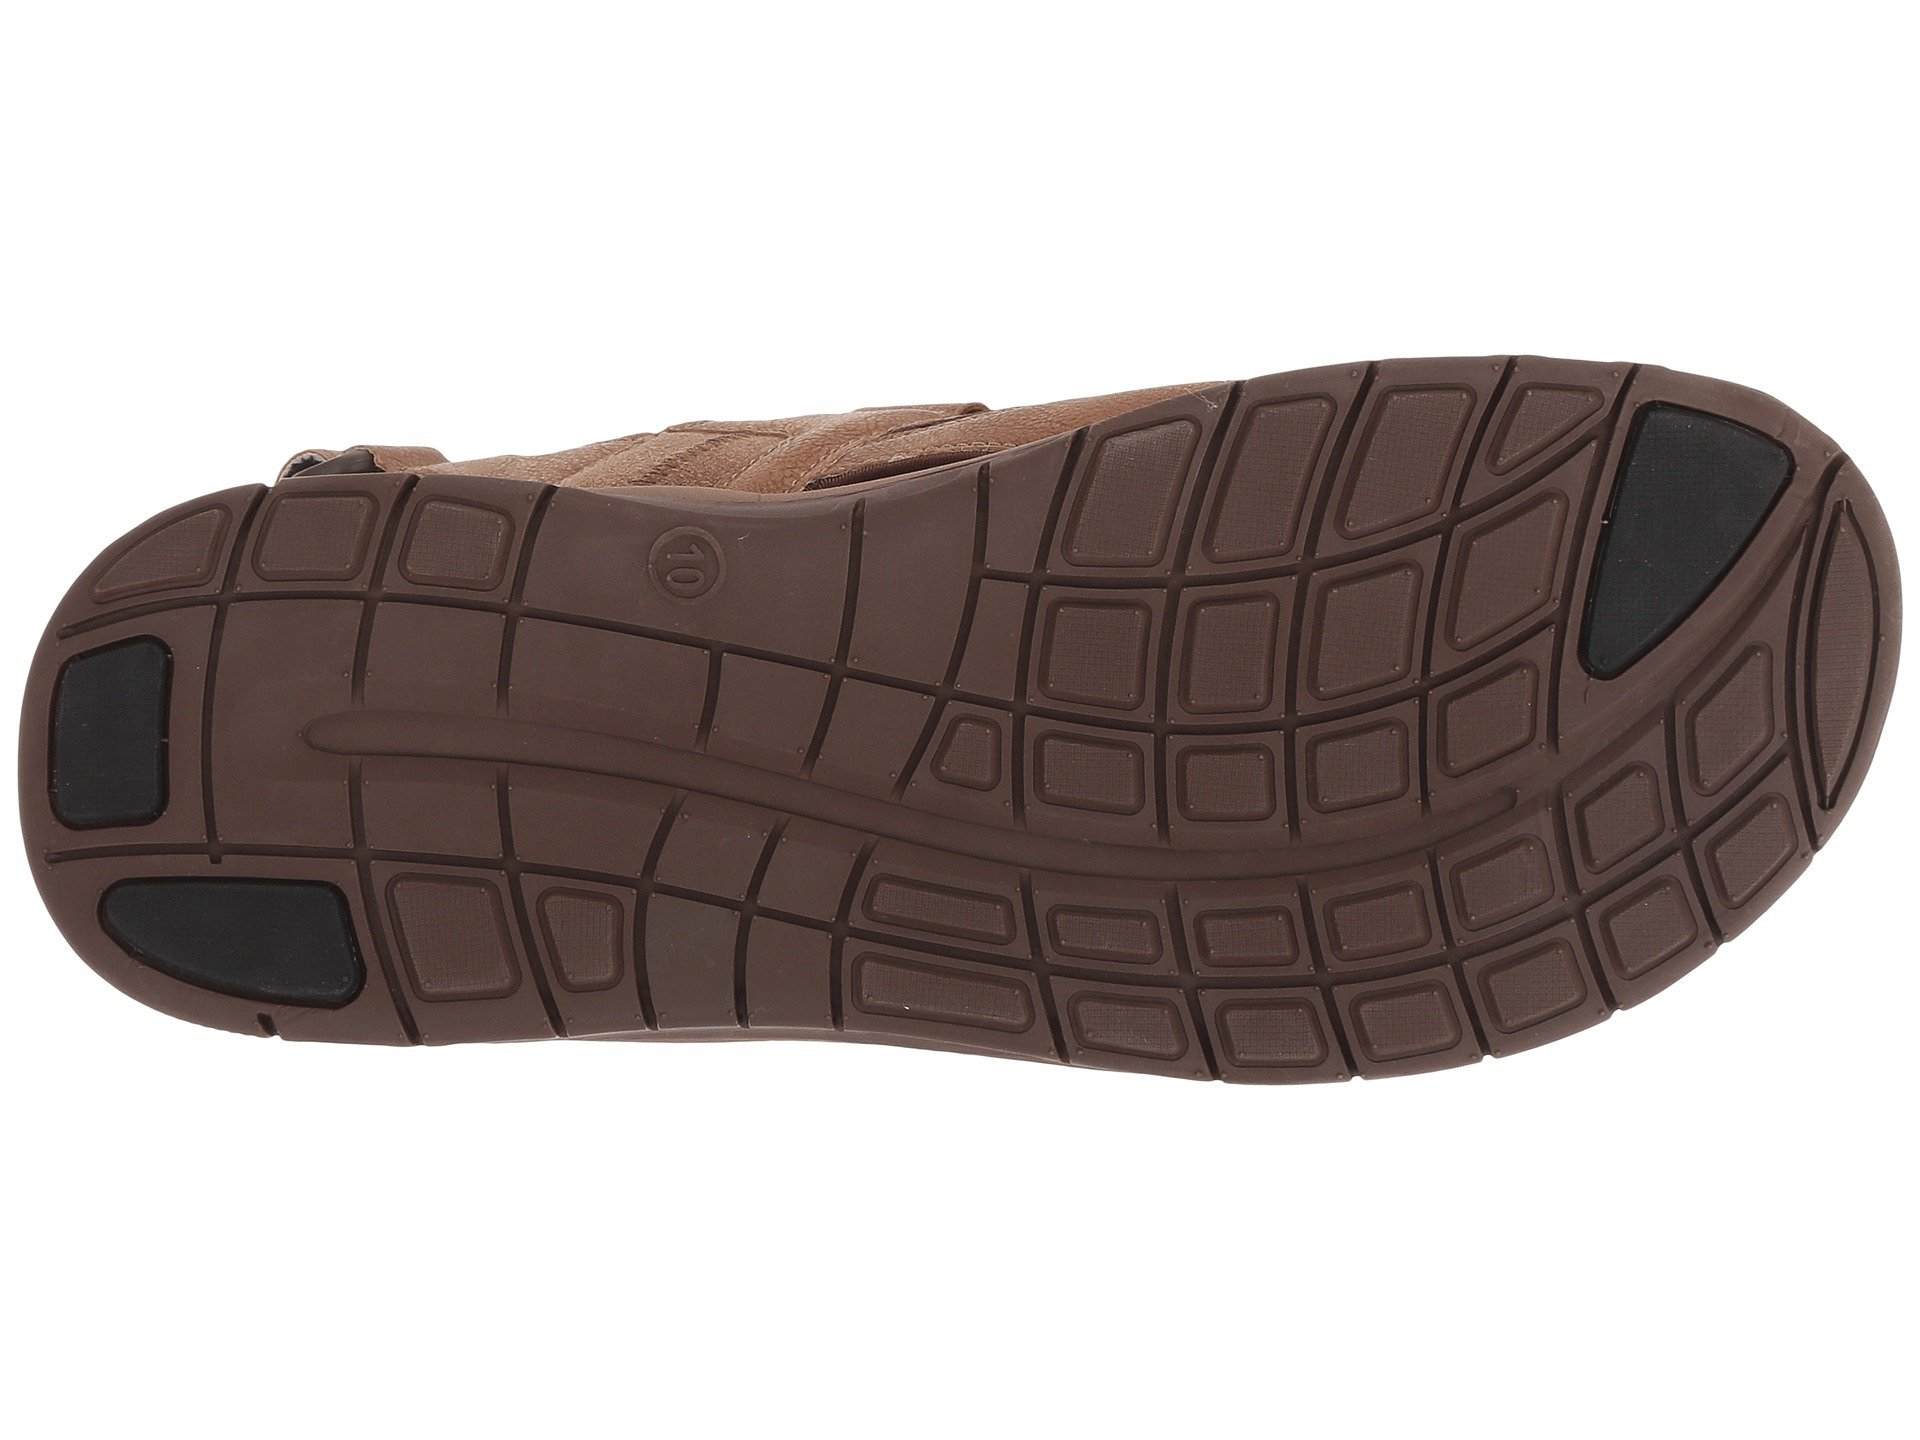circle: (624, 510, 770, 635)
quad: (1364, 340, 1680, 681), (1002, 563, 1330, 883), (1420, 784, 1634, 1054)
text: (624, 510, 770, 635)
triangle: (1364, 340, 1680, 681)
